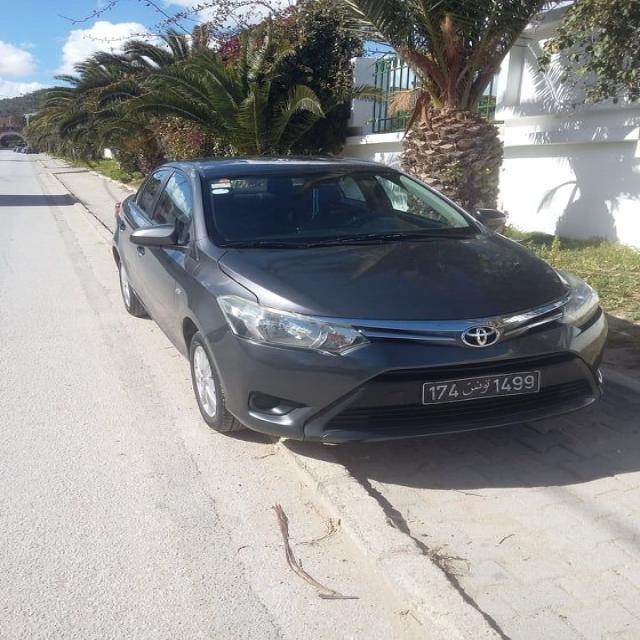LP: (420, 369, 540, 403)
